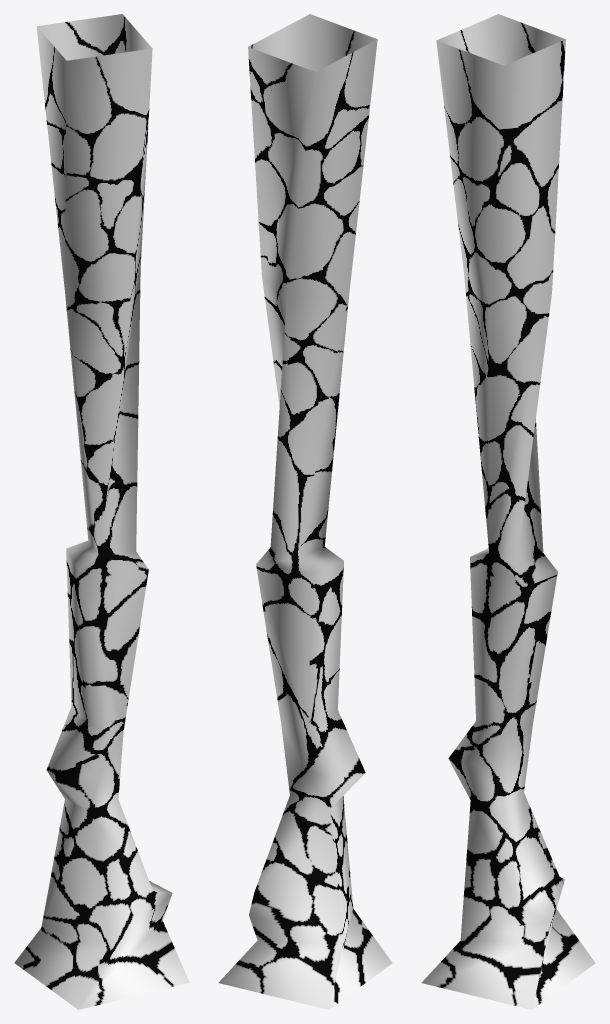
File: Stone_04_07.fbx
3 views of the same model, side by side, from view 1: azimuth 30°, elevation 25°; view 2: azimuth 150°, elevation 25°; view 3: azimuth 330°, elevation 25° (orthographic).
Visible parts, largest first — view 1: Stone_04_07; view 2: Stone_04_07; view 3: Stone_04_07.
Part boxes in pixels (x1=…): Stone_04_07: x1=14, y1=14, x2=189, y2=1009; Stone_04_07: x1=218, y1=14, x2=392, y2=1009; Stone_04_07: x1=421, y1=14, x2=595, y2=1009.
Size of the model in its own units: 6.4 by 51.09 by 6.4.
